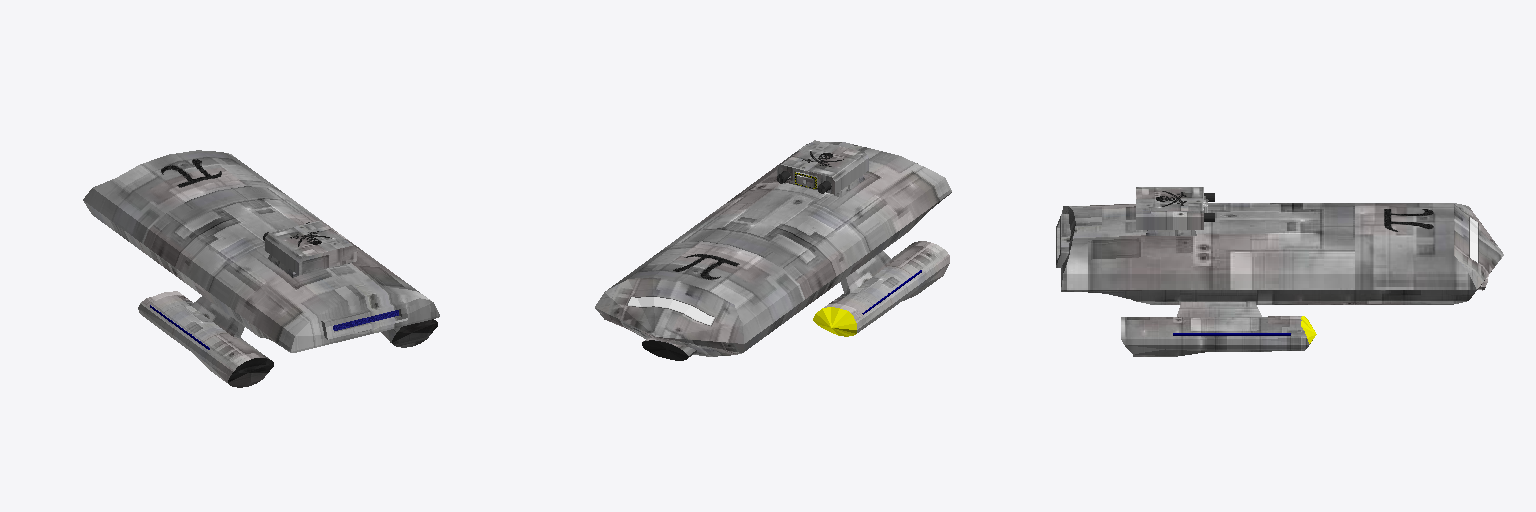
The picture shows the model from 3 angles: view 1: azimuth 30°, elevation 25°; view 2: azimuth 150°, elevation 25°; view 3: azimuth 270°, elevation 25°; orthographic projection.
Visible parts, largest first — view 1: main; view 2: main; view 3: main.
Part boxes in pixels (x1,y1,x2,y2): main: (83,150,439,387); main: (595,140,951,360); main: (1056,187,1503,356).
Bounding box in the file's own units: 3.33 × 1.75 × 6.22.
1 materials, 1 textured.